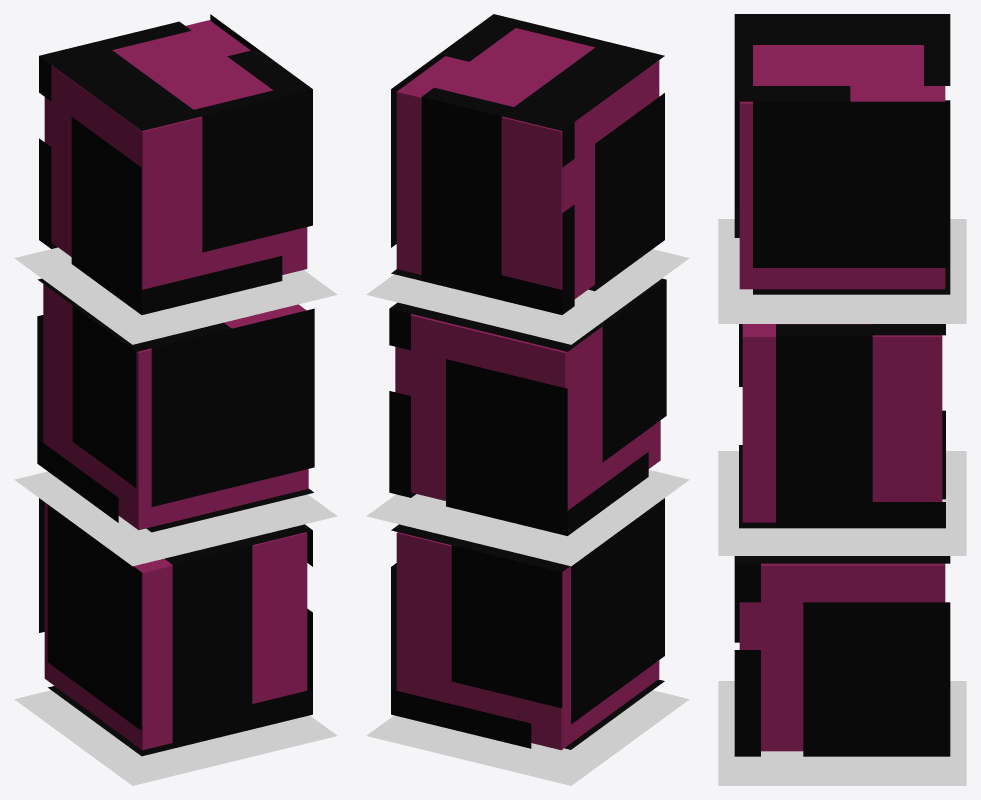
Rendered from threeBox.fbx.
3 renders of one model, left to right at view 1: azimuth 30°, elevation 25°; view 2: azimuth 150°, elevation 25°; view 3: azimuth 270°, elevation 25°, orthographic. The views are drawn at different scales.
Visible parts, largest first — view 1: shelf2; view 2: shelf2; view 3: shelf2.
Boxes of the visible parts, left/top/right/bottom form: shelf2: left=14, top=14, right=337, bottom=785; shelf2: left=366, top=14, right=689, bottom=785; shelf2: left=718, top=14, right=966, bottom=785.
Bounding box in the file's own units: 129 × 387 × 129.
